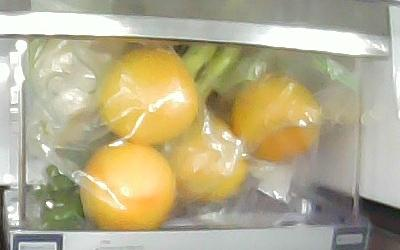grapefruit_vinyl: (100, 49, 197, 145), (230, 73, 322, 164), (80, 142, 174, 228), (169, 113, 247, 201)
